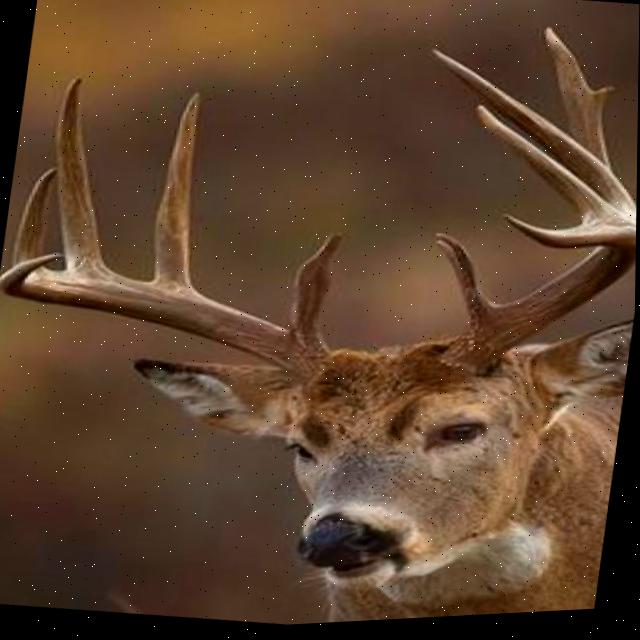L-F: (442, 216, 637, 381)
L-G1: (431, 237, 502, 333)
L-G3: (428, 52, 637, 221)
L-G4: (476, 110, 609, 233)
R-F: (0, 253, 332, 386)
R-G1: (289, 230, 350, 351)
R-G2: (147, 91, 201, 295)
R-G3: (55, 77, 118, 276)
